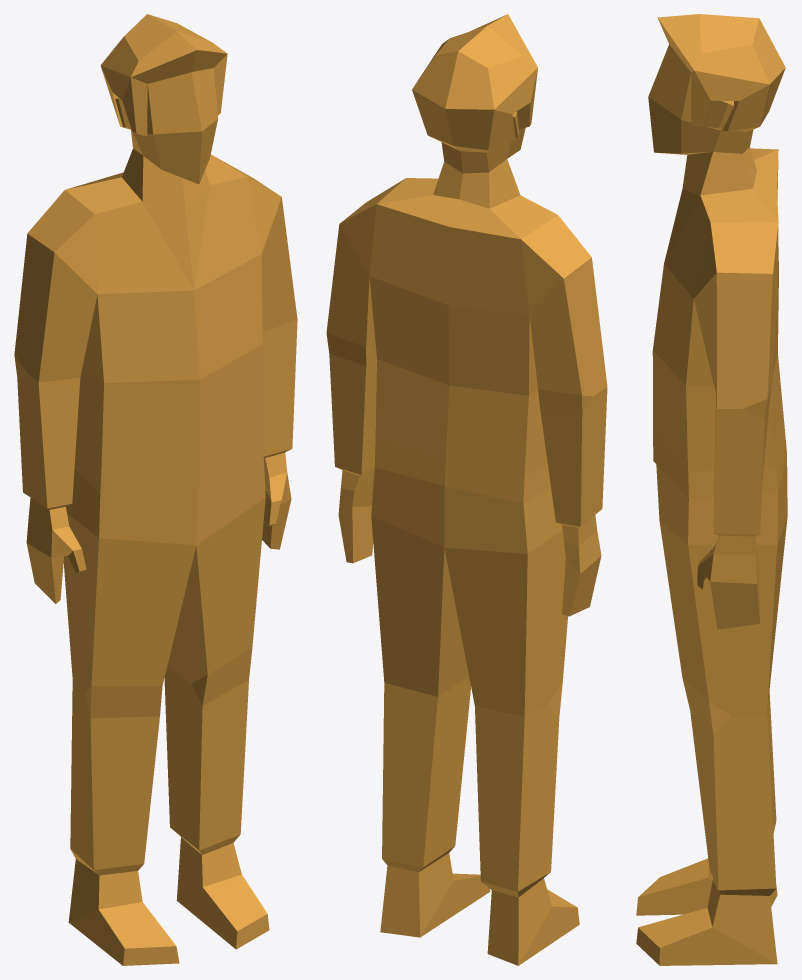
Rendered from man-lad.fbx.
3 renders of one model, left to right at view 1: azimuth 30°, elevation 25°; view 2: azimuth 150°, elevation 25°; view 3: azimuth 270°, elevation 25°, orthographic. The views are drawn at different scales.
Parts seen in each view (by area): view 1: man-lad; view 2: man-lad; view 3: man-lad.
Boxes of the visible parts, box(x1,y1,x2,y2) form: man-lad: box(14, 14, 297, 965); man-lad: box(326, 14, 607, 965); man-lad: box(636, 14, 787, 965).
Size of the model in its own units: 0.5495 by 1.83 by 0.2741.
